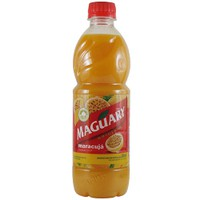maguary: (69, 1, 134, 200)
